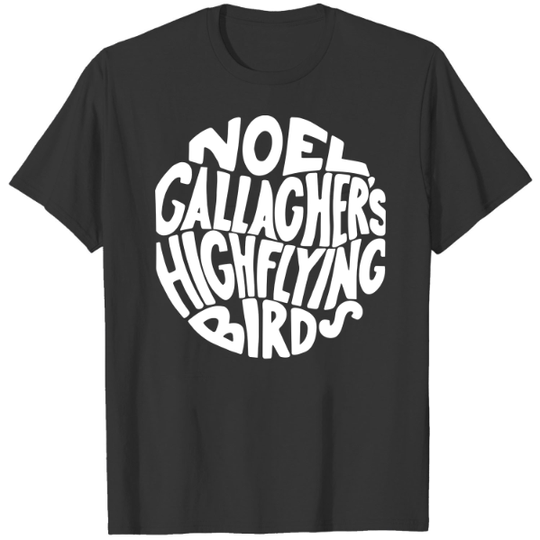design: (152, 111, 387, 361)
